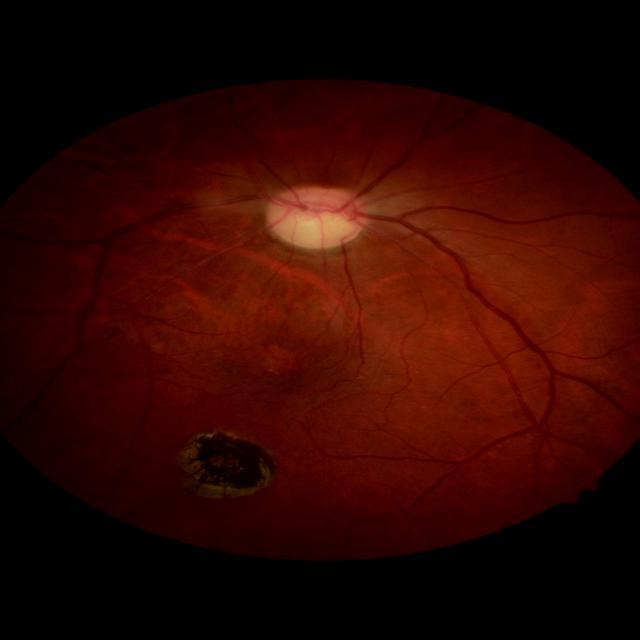cup: (282, 192, 354, 238)
disk: (268, 184, 368, 248)
